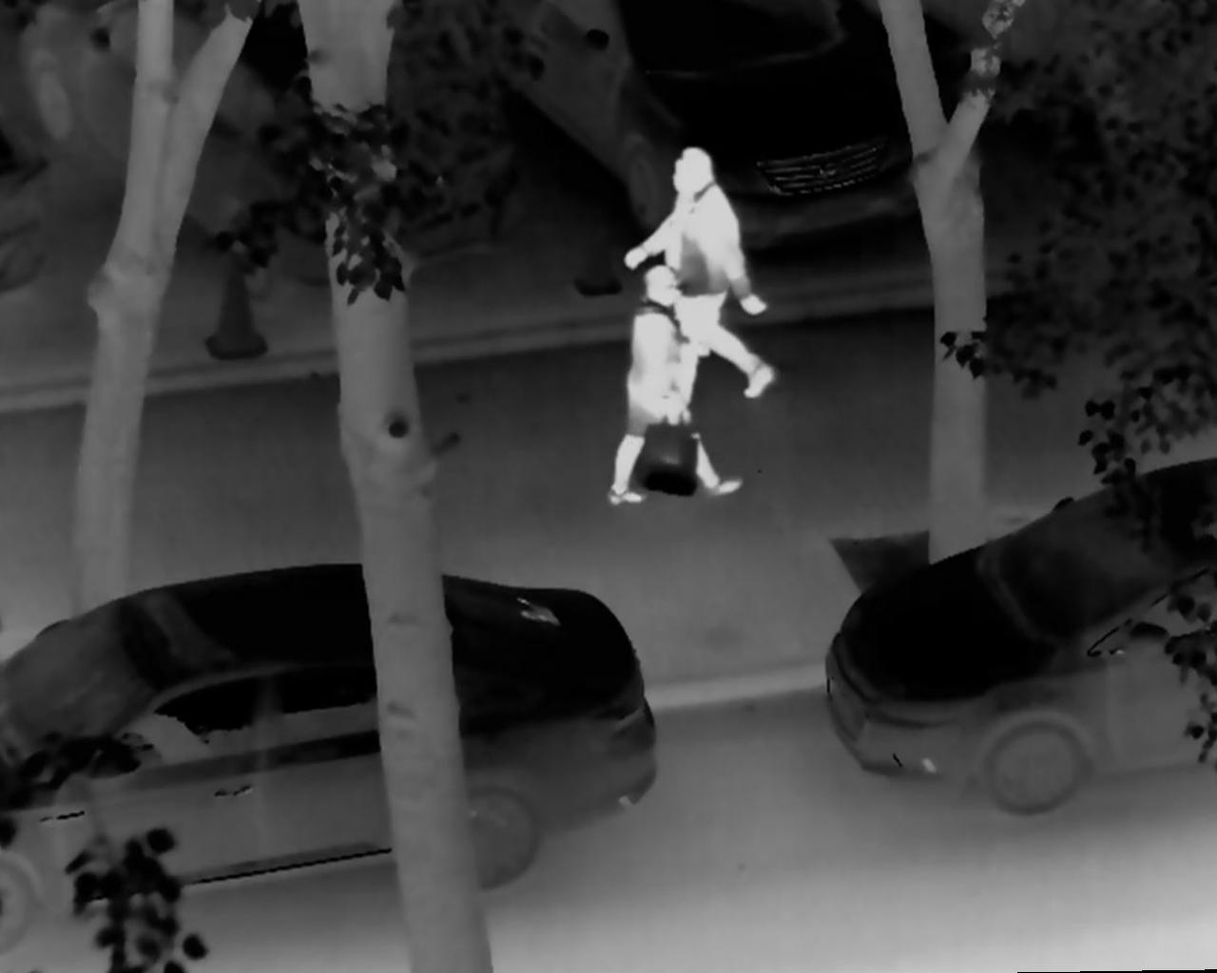person: (622, 143, 776, 418), (605, 266, 749, 511)
